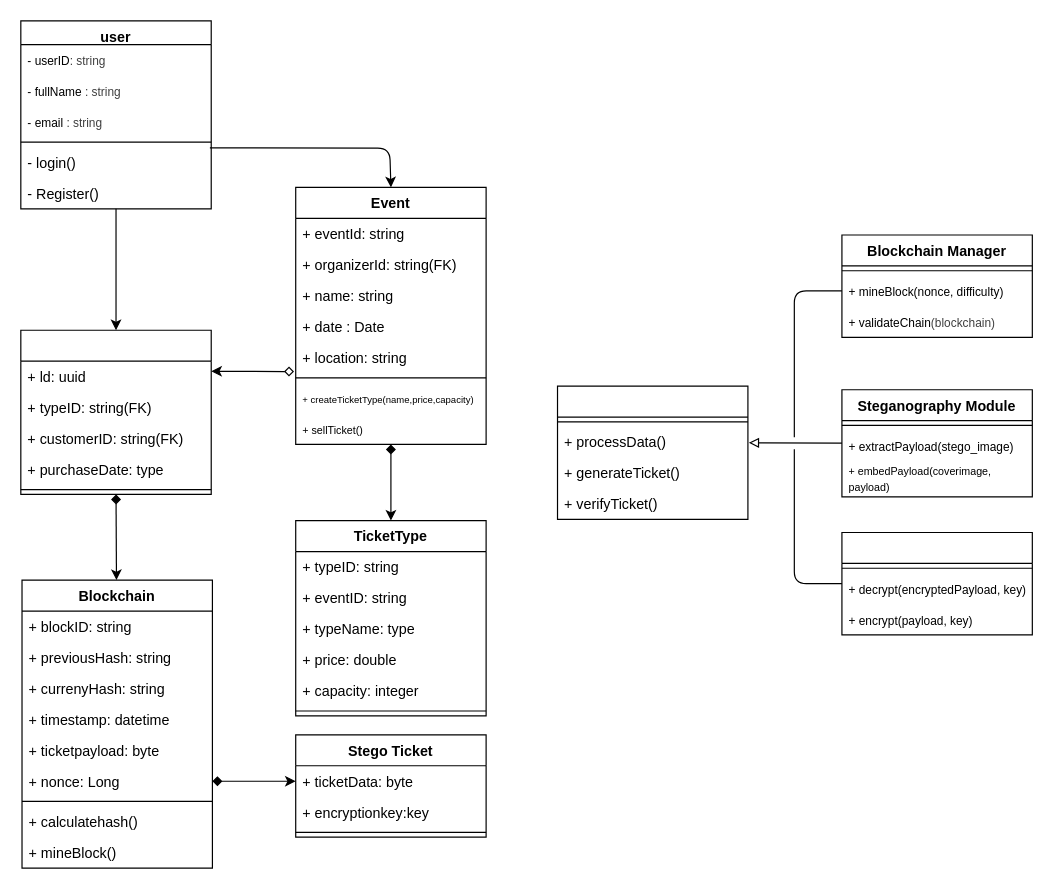
Some shapes in this 1053 by 893 pixel diagram are drawn without their labels. The shapes that lost their labels are listed below. From the top down, each one's box as (x1, y1, x2, y2) in pixels, then its label:
(20, 329, 211, 494): Ticket
(556, 385, 748, 519): FFI Module
(841, 531, 1032, 635): Fibonacci Module
